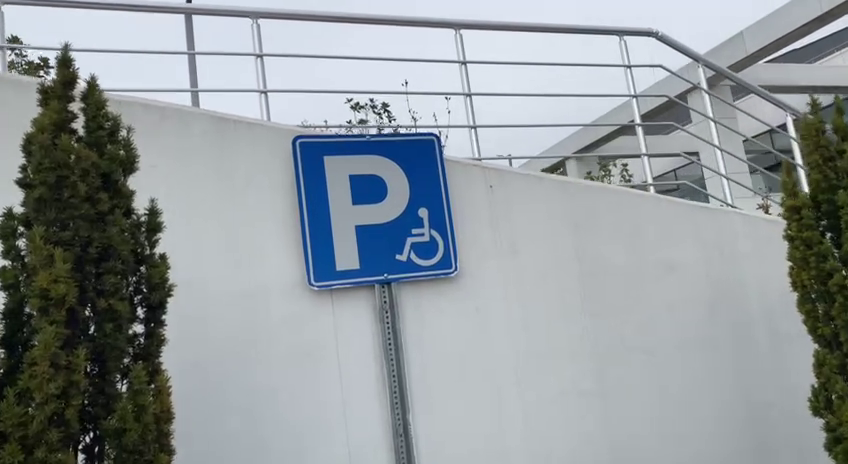parking: (291, 127, 461, 294)
